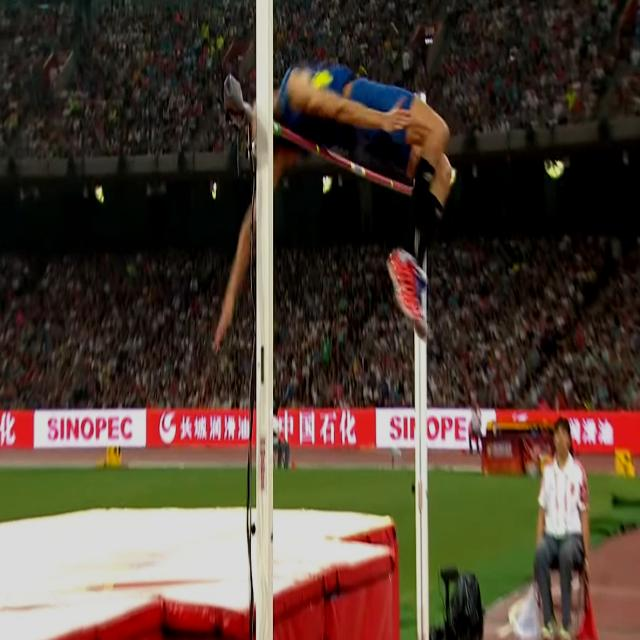jump: (214, 64, 451, 338)
